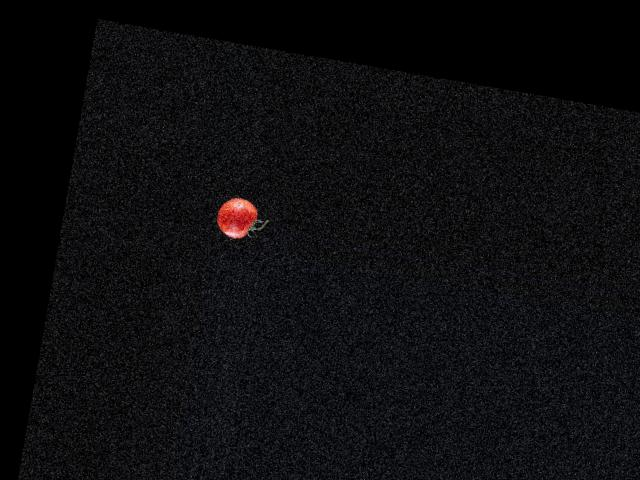tomato: (214, 194, 260, 241)
